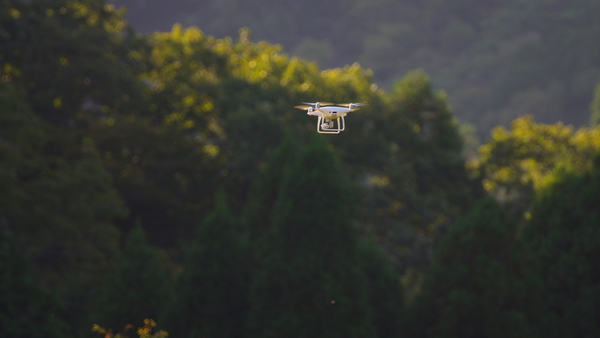drone: (292, 100, 369, 135)
